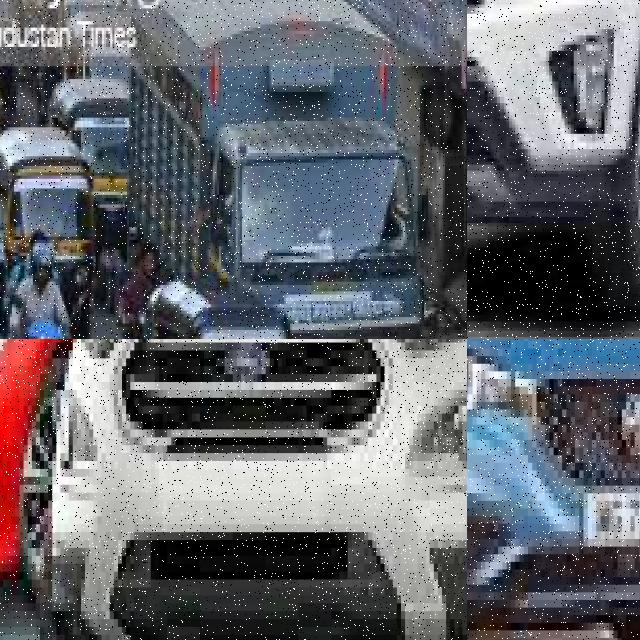bike: (1, 310, 95, 339)
car: (19, 339, 467, 640), (467, 0, 640, 309), (467, 339, 640, 630)
